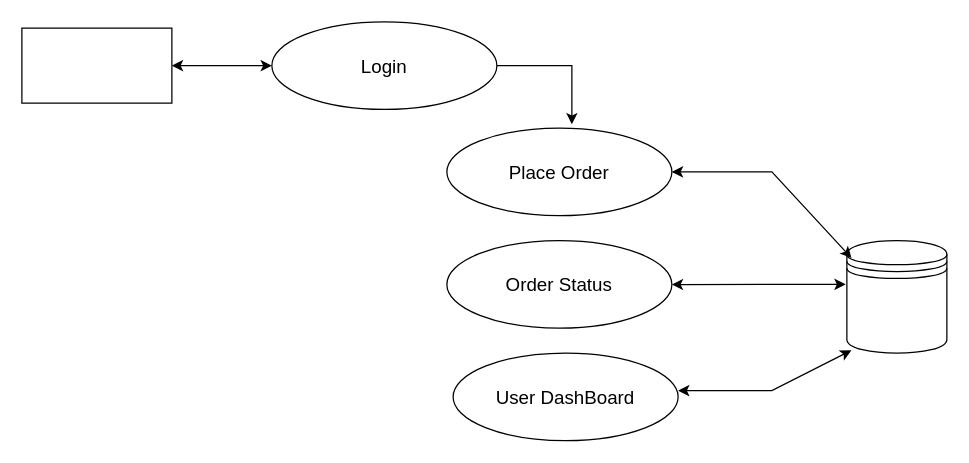
The diagram is 969 pixels wide and 463 high, and some of its shapes have lost their labels. Here are the shapes that lost their labels. From the top down, the centre of each, then its label:
the point at 96,65: Users
the point at 896,296: User Database
